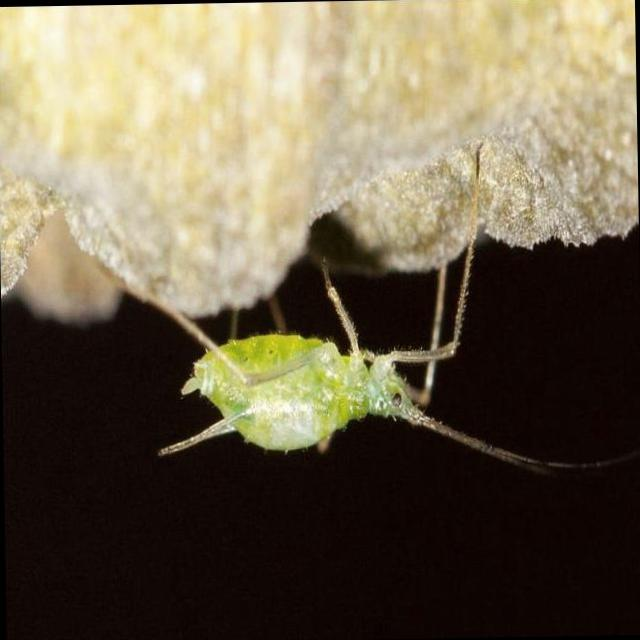aphid: (109, 191, 582, 506)
